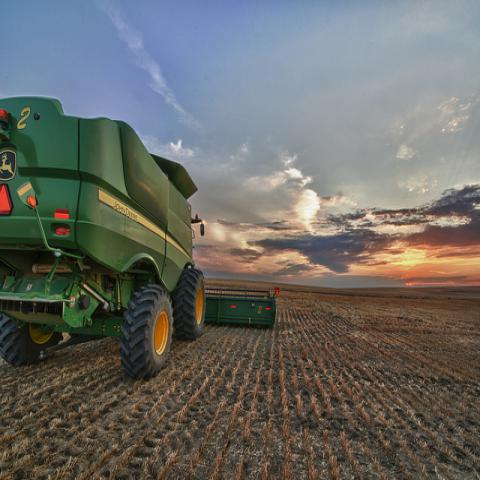truck: (1, 97, 208, 379)
